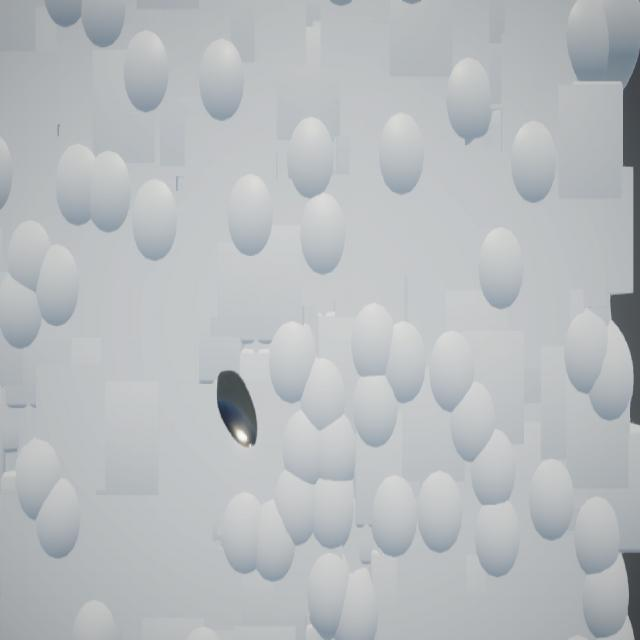top_spoon: (218, 372, 259, 449)
